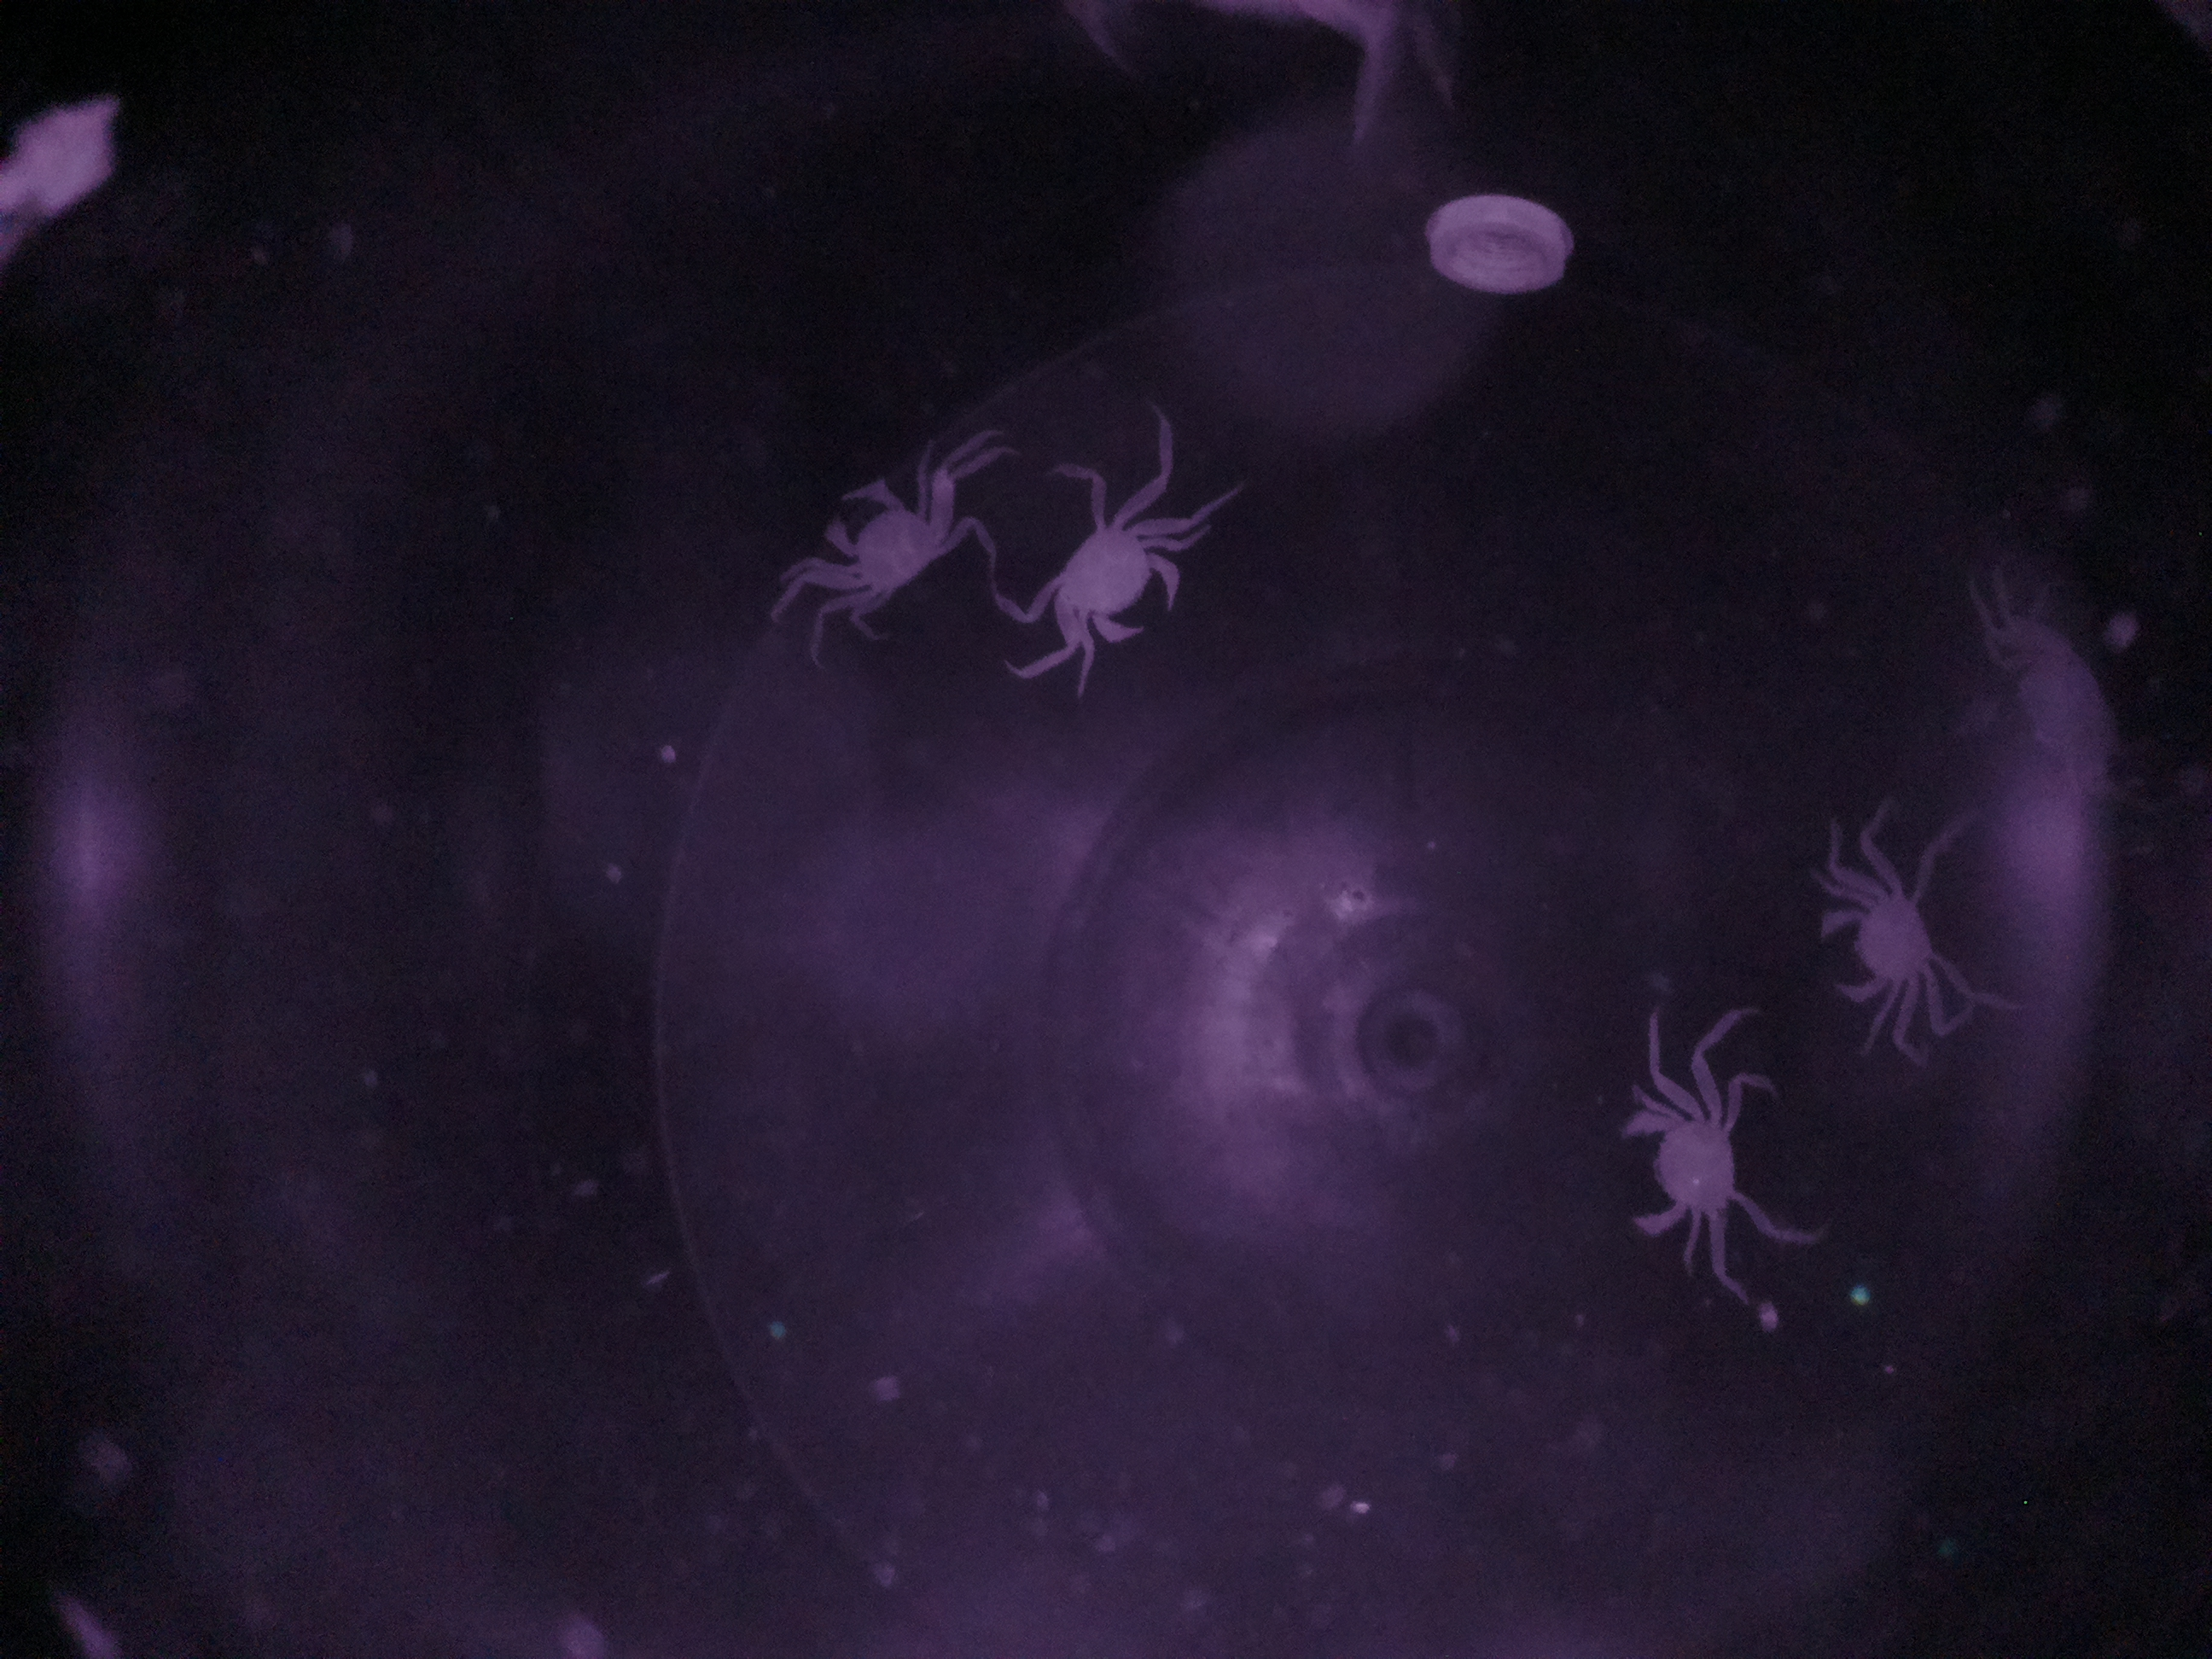Crab: (1604, 1051, 1771, 1290), (792, 439, 977, 636), (1792, 854, 1973, 1033), (1021, 484, 1190, 673)
